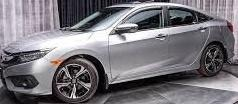Cars: (1, 4, 235, 104)
